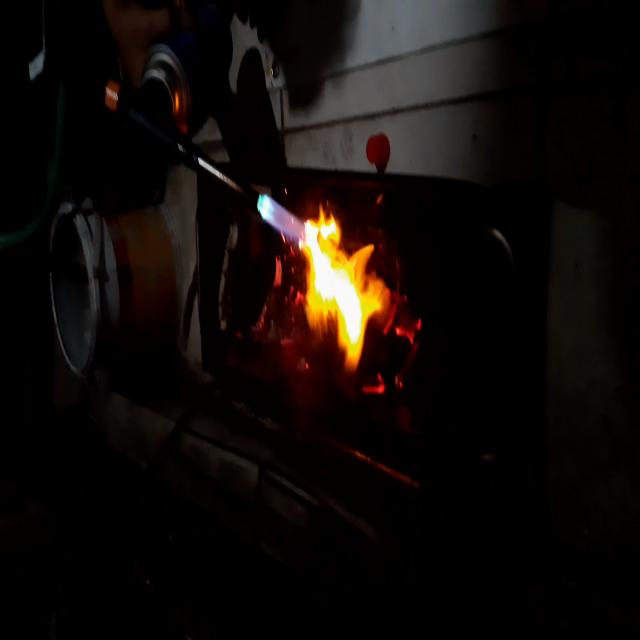Fire: (255, 178, 380, 360), (365, 301, 443, 425)
